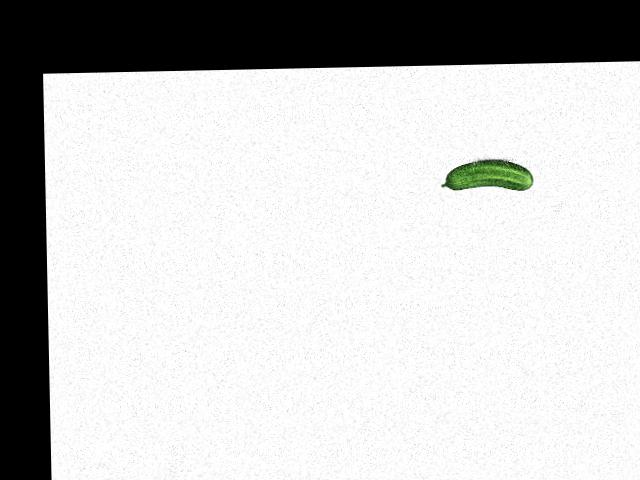cucumber: (441, 158, 533, 191)
